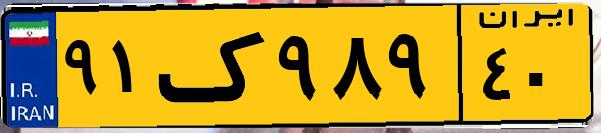0: (525, 38, 570, 115)
1: (110, 28, 158, 98)
4: (475, 38, 525, 113)
8: (330, 28, 385, 110)
9: (270, 28, 330, 110), (385, 28, 445, 110), (57, 26, 110, 100)
ک: (158, 12, 270, 120)
